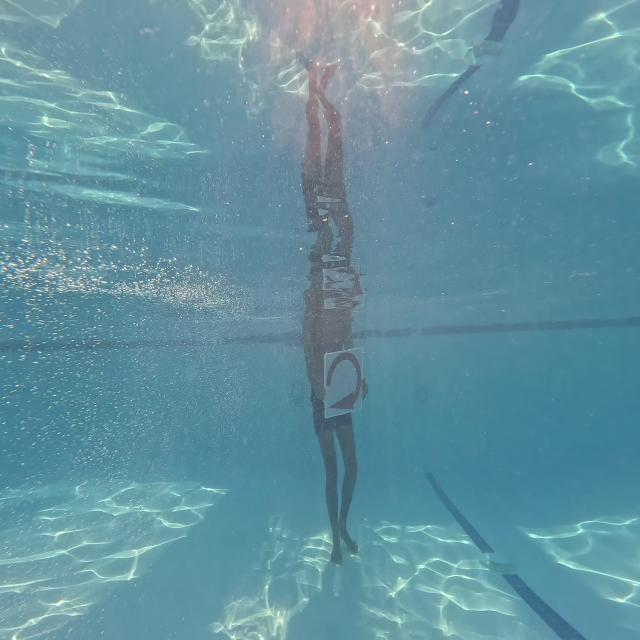red_side: (323, 350, 367, 421)
